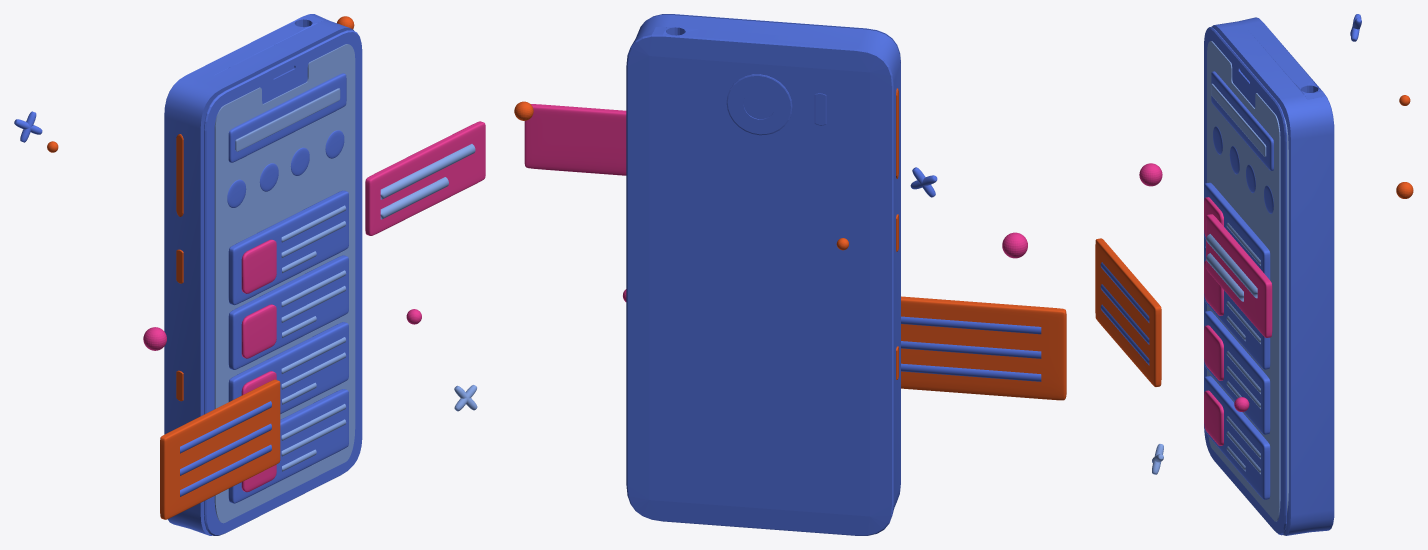
Rendered from smartphone-3d-animated-icon-789765147476.glb.
3 renders of one model, left to right at view 1: azimuth 30°, elevation 25°; view 2: azimuth 150°, elevation 25°; view 3: azimuth 270°, elevation 25°, orthographic. The views are drawn at different scales.
Parts seen in each view (by area): view 1: handphone, handphone.001, data.005, data.001, data.002, data.006, data.003, data.004, data, data.010, data.011, data.007 (+2 smaller); view 2: handphone, data.005, handphone.001, data.006, data.009, data.008, data.007; view 3: handphone.001, handphone, data.005, data.004, data.003, data.006, data.002, data, data.001, data.010, data.011, element sphere.003.
Part boxes in pixels (left/top/right/bottom): handphone: left=164, top=14, right=362, bottom=535; handphone.001: left=164, top=14, right=349, bottom=535; data.005: left=160, top=379, right=280, bottom=519; data.001: left=228, top=190, right=348, bottom=305; data.002: left=228, top=255, right=348, bottom=369; data.006: left=365, top=121, right=485, bottom=235; data.003: left=228, top=322, right=348, bottom=413; data.004: left=228, top=389, right=348, bottom=503; data: left=228, top=73, right=346, bottom=162; data.010: left=380, top=144, right=475, bottom=199; data.011: left=380, top=177, right=448, bottom=219; data.007: left=180, top=401, right=271, bottom=453; handphone: left=626, top=14, right=900, bottom=535; data.005: left=901, top=296, right=1066, bottom=400; handphone.001: left=631, top=15, right=900, bottom=513; data.006: left=524, top=104, right=626, bottom=175; data.009: left=901, top=363, right=1041, bottom=381; data.008: left=901, top=341, right=1041, bottom=358; data.007: left=901, top=316, right=1041, bottom=334; handphone.001: left=1214, top=17, right=1333, bottom=535; handphone: left=1204, top=23, right=1334, bottom=535; data.005: left=1095, top=238, right=1161, bottom=386; data.004: left=1204, top=376, right=1270, bottom=499; data.003: left=1204, top=311, right=1270, bottom=434; data.006: left=1206, top=214, right=1272, bottom=337; data.002: left=1204, top=246, right=1270, bottom=369; data: left=1211, top=71, right=1273, bottom=170; data.001: left=1204, top=182, right=1270, bottom=279; data.010: left=1206, top=234, right=1257, bottom=298; data.011: left=1206, top=253, right=1243, bottom=301; element sphere.003: left=1139, top=163, right=1162, bottom=186.
Bounding box in the file's own units: 5.18 × 5.23 × 3.45.
